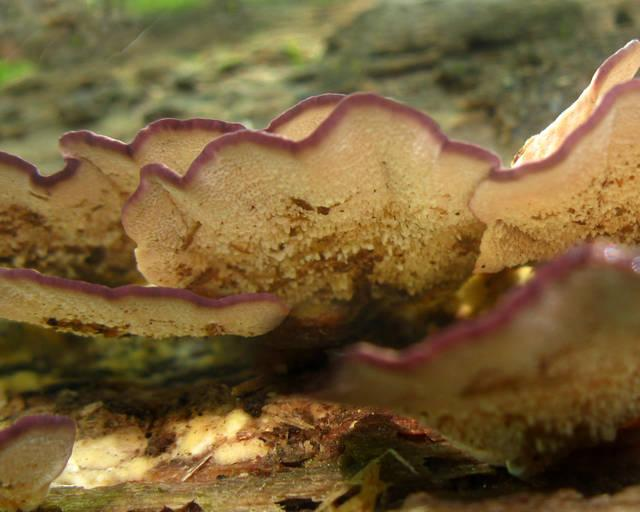Non-edible Mushroom: (0, 36, 639, 482)
